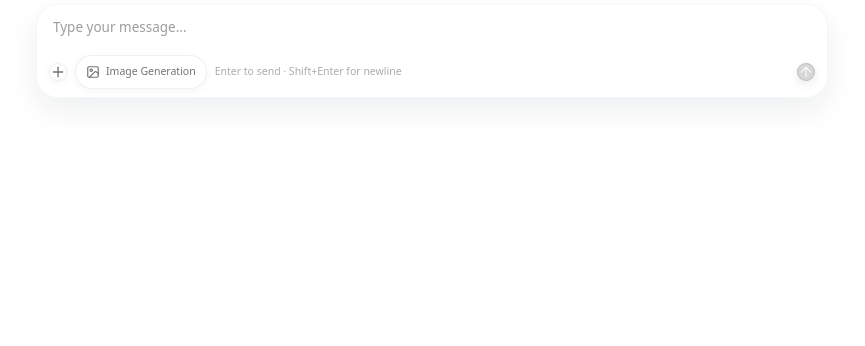
ThreadComposer › opens a slash command palette and inserts the selected command
Type "/" into the text box named "Message input" at (432,30), box [37,5,827,55]
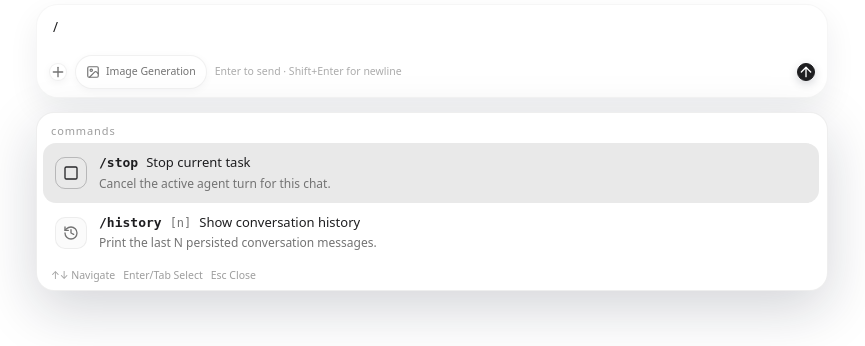
Now the list named "Slash commands" is shown, box [36,112,828,291]
Press ArrowDown in the text box named "Message input", box [37,5,827,55]
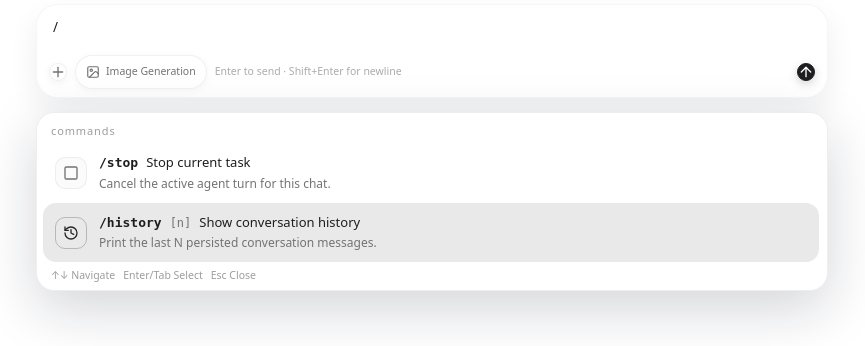
Now the option "/history" is selected, box [43,203,819,262]
Press Enter in the text box named "Message input", box [37,5,827,55]
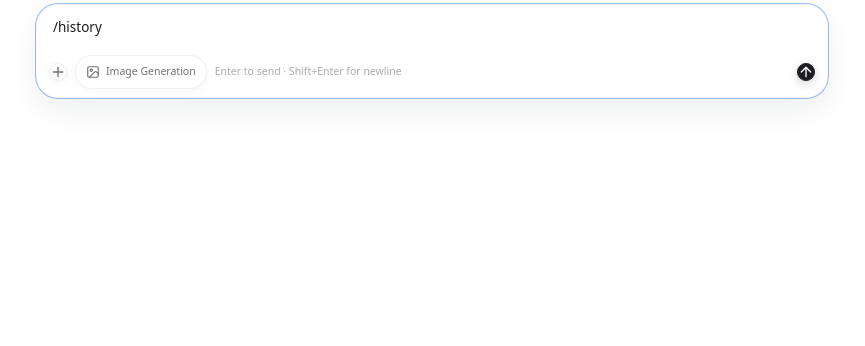
Now the text box named "Message input" holds "/history ", box [37,5,827,55]
